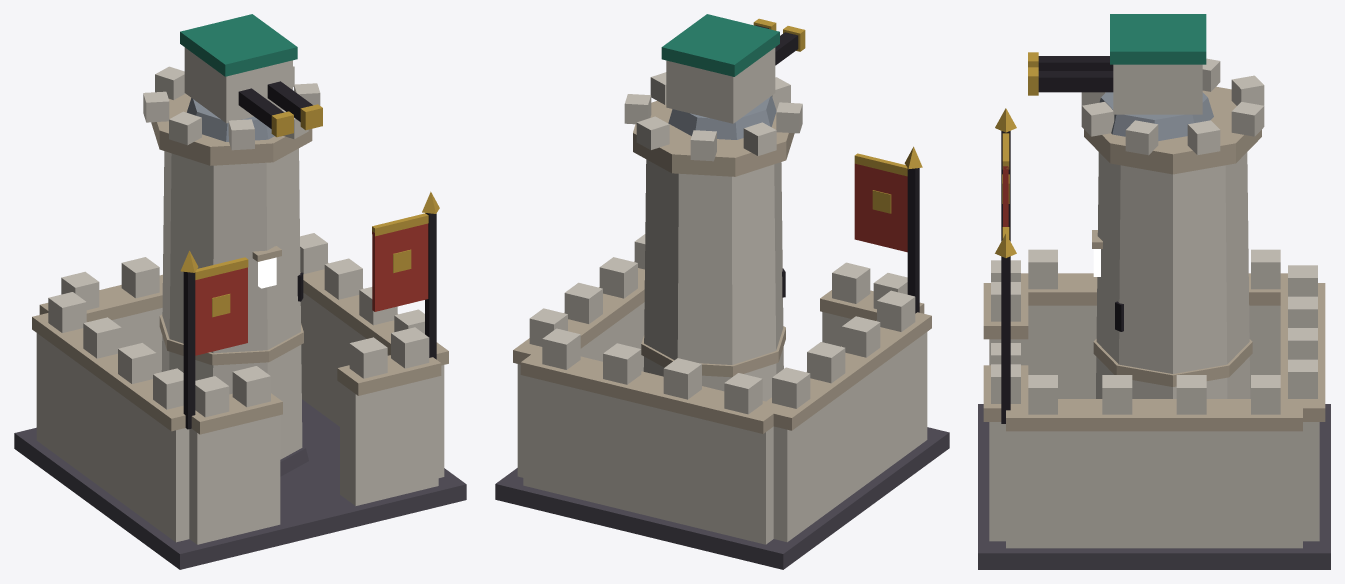
The model's file is outpost_t3.glb.
The picture shows the model from 3 angles, left to right: view 1: azimuth 30°, elevation 25°; view 2: azimuth 150°, elevation 25°; view 3: azimuth 270°, elevation 25°; orthographic projection. The views are drawn at different scales.
Parts seen in each view (by area): view 1: body, part_turret; view 2: body, part_turret; view 3: body, part_turret.
Part boxes in pixels (x1=…): body: x1=14, y1=66, x2=466, y2=569; part_turret: x1=180, y1=14, x2=322, y2=141; body: x1=495, y1=72, x2=949, y2=569; part_turret: x1=661, y1=14, x2=805, y2=139; body: x1=978, y1=58, x2=1330, y2=569; part_turret: x1=1028, y1=14, x2=1213, y2=140.
Bounding box in the file's own units: 1.9 × 2.75 × 1.9.
